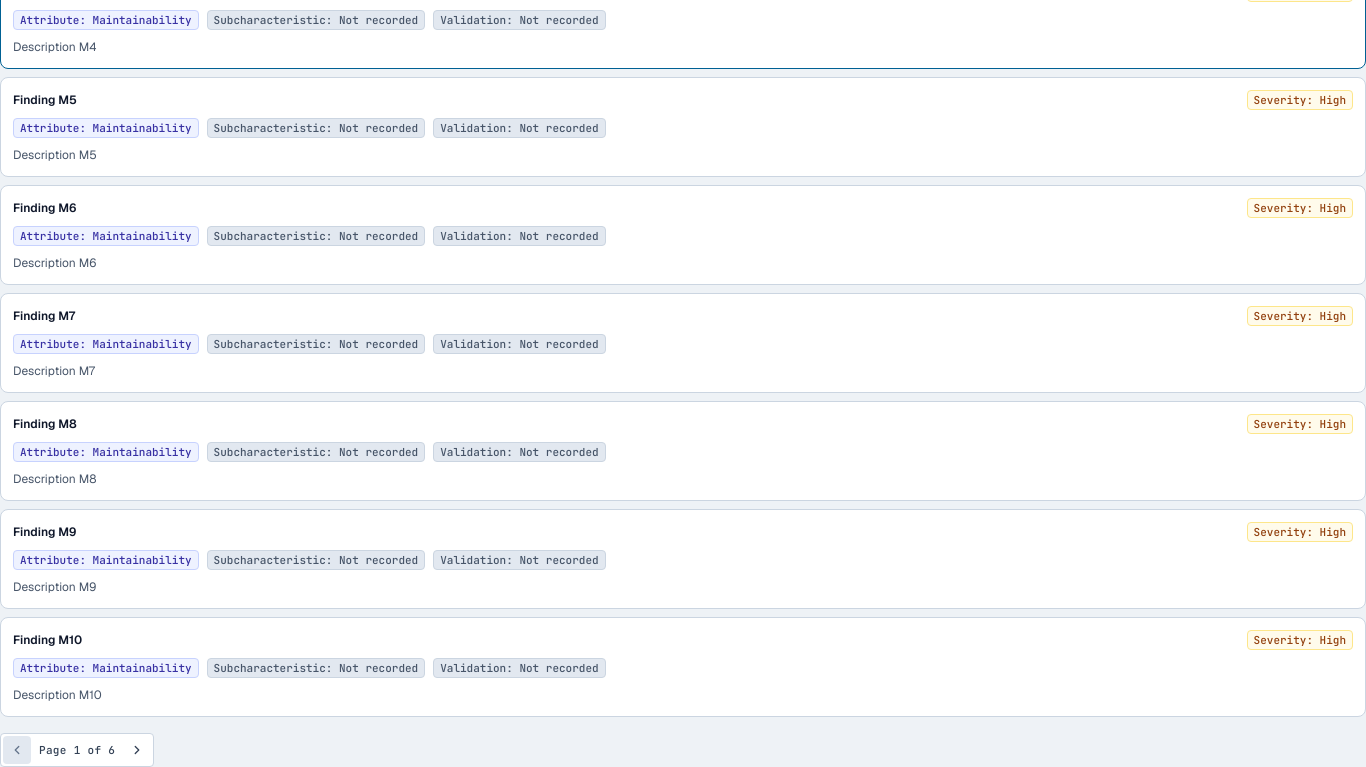
it: audit findings list › allows 10, 20 or 50 findings per page and resets the current page when the size changes
(page scrolled)
Click the button named "Next page": click(137, 750) [123,736,151,764]
(page scrolled)
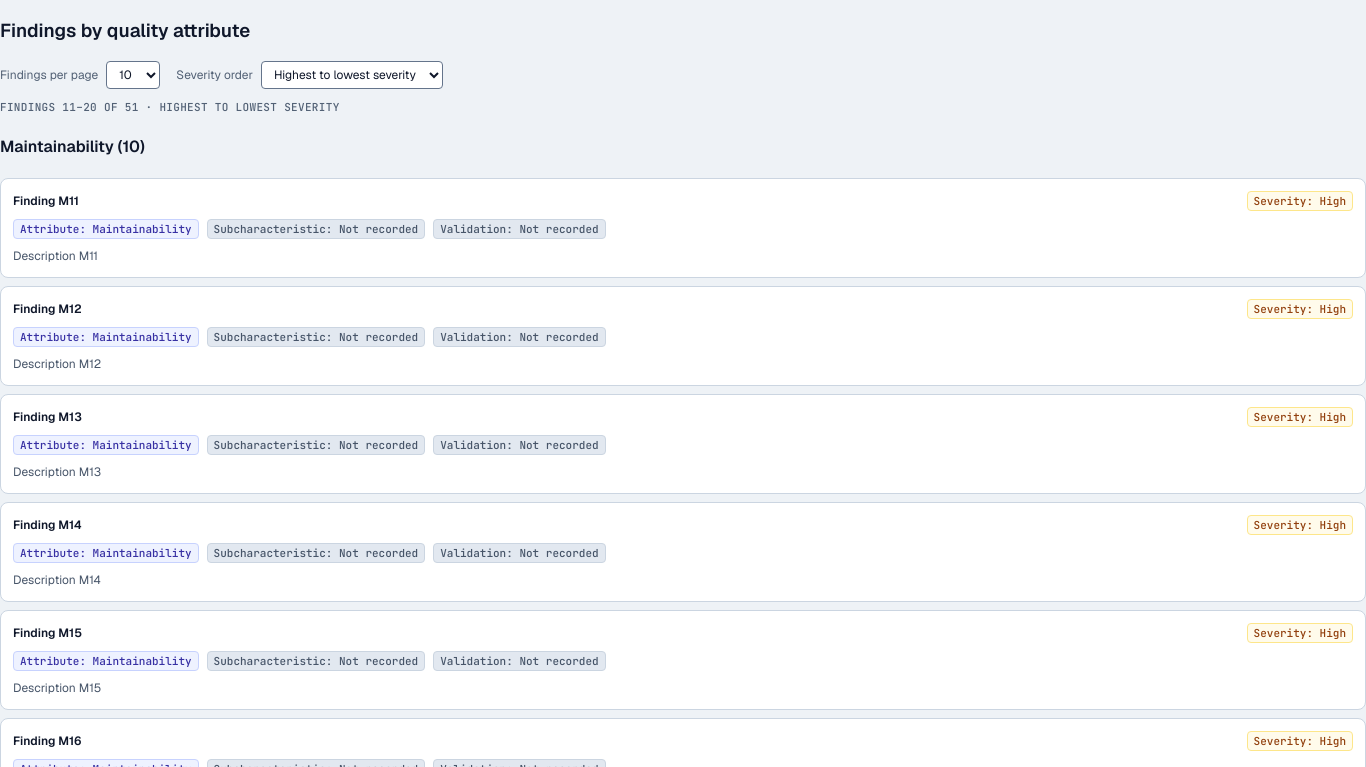
Select "20" in the dropdown labelled "Findings per page": (133, 75) [106,61,160,89]
(page scrolled)
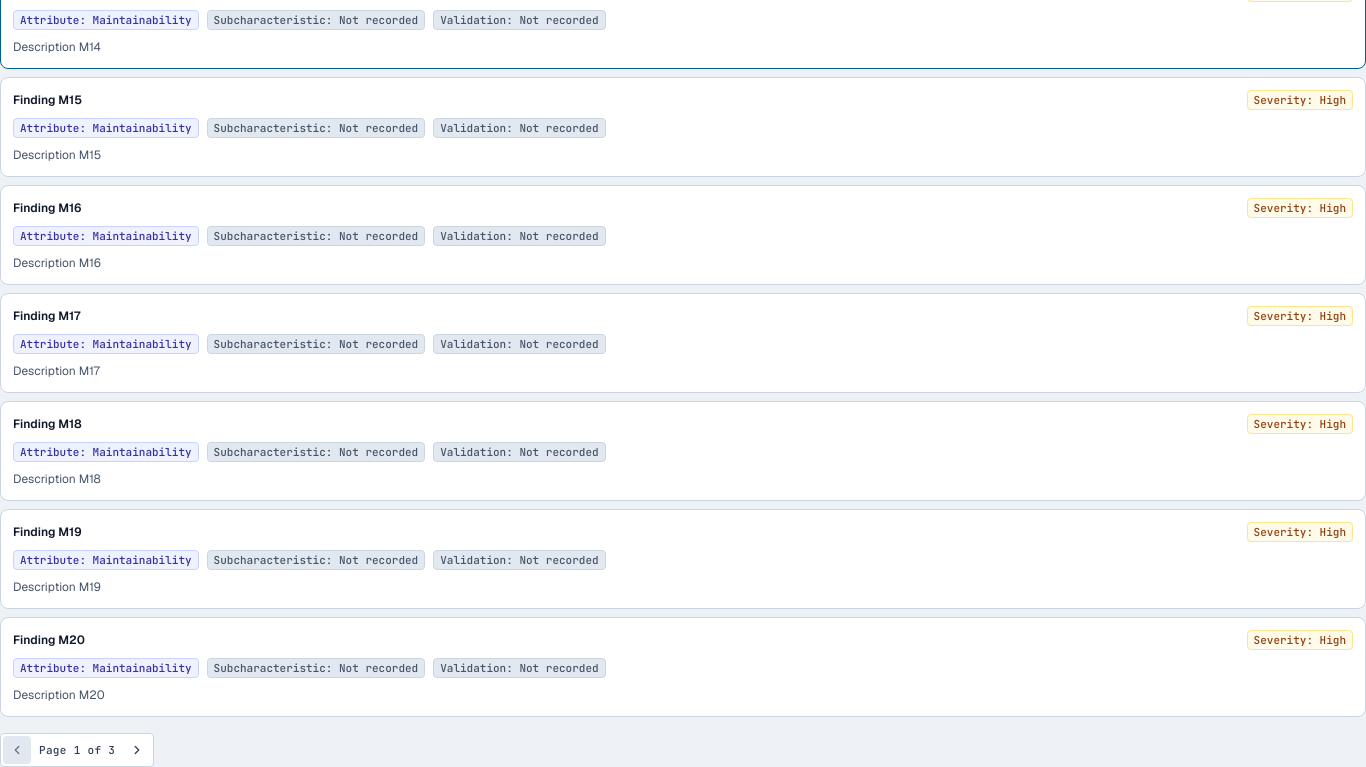
Check: the button named "Previous page" is disabled, box [3,736,31,764]
Click the button named "Next page": click(137, 750) [123,736,151,764]
(page scrolled)
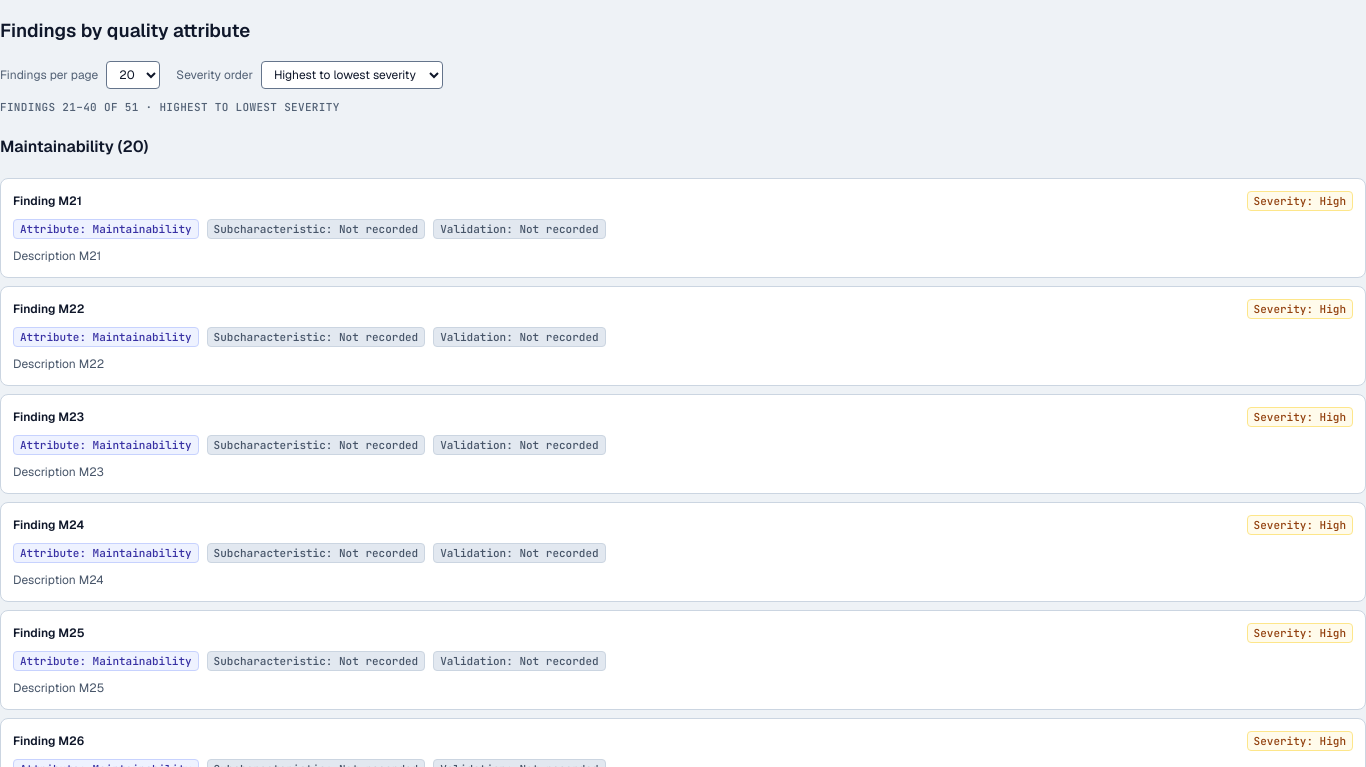
Check: the message shows "Findings 21–40 of 51", box [0,100,340,114]
Select "50" in the dropdown labelled "Findings per page": (133, 75) [106,61,160,89]
(page scrolled)
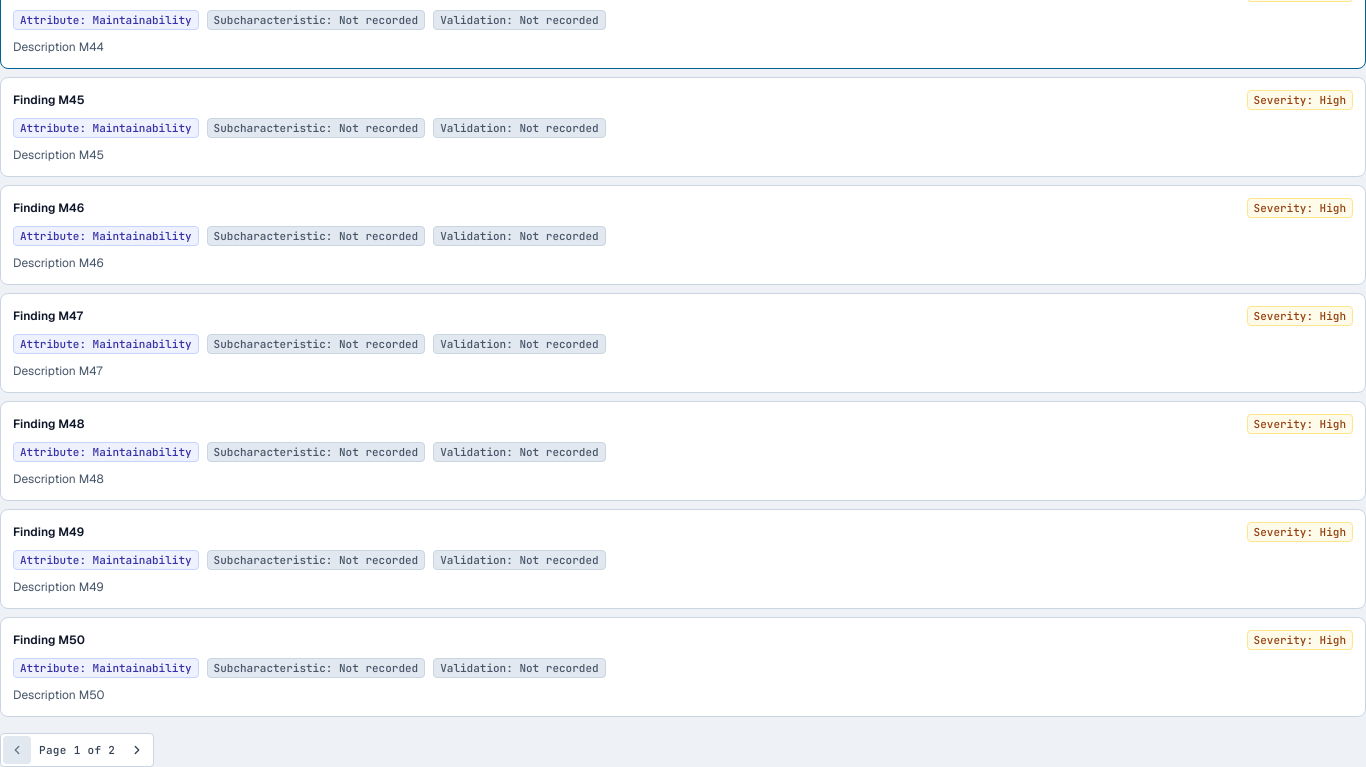
Click the button named "Next page": click(137, 750) [123,736,151,764]
(page scrolled)
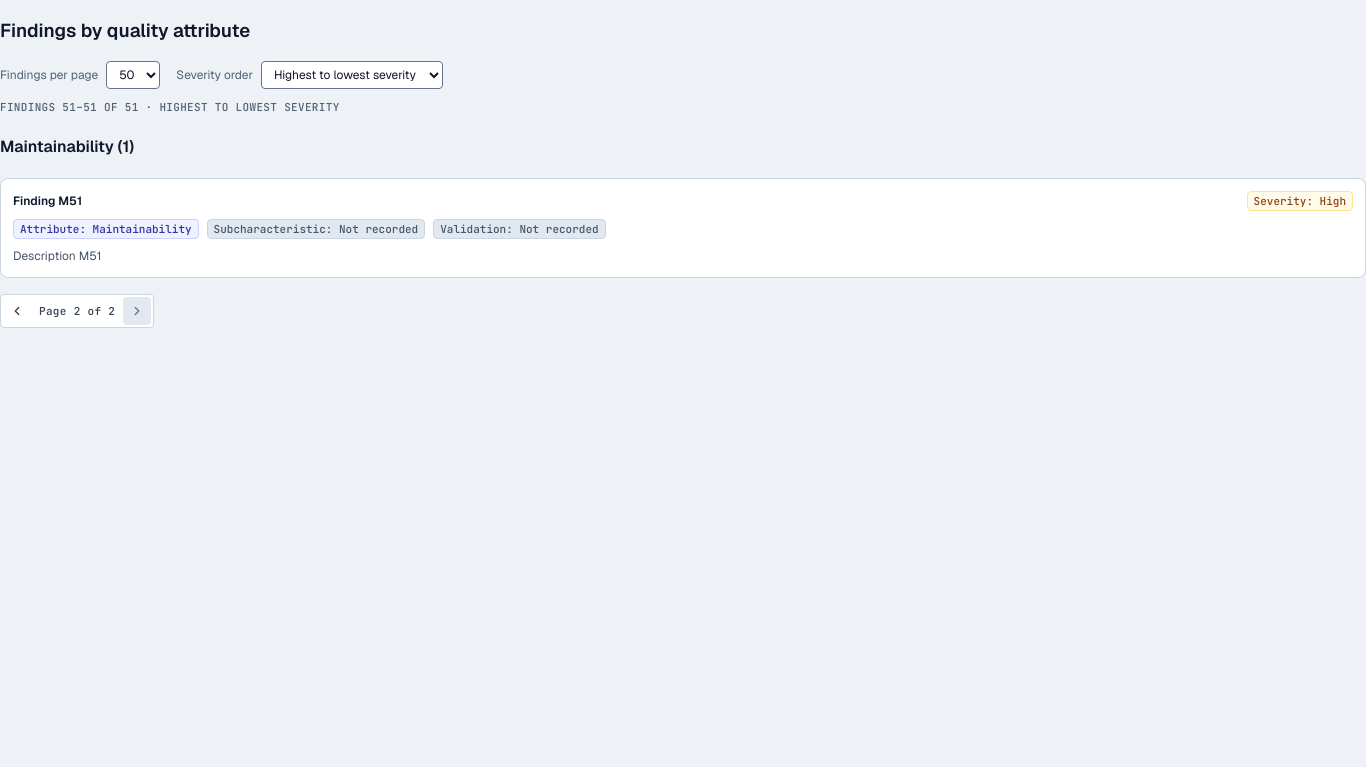
Check: the heading "Finding M51" is shown, box [13,192,82,210]
Select "10" in the dropdown labelled "Findings per page": (133, 75) [106,61,160,89]
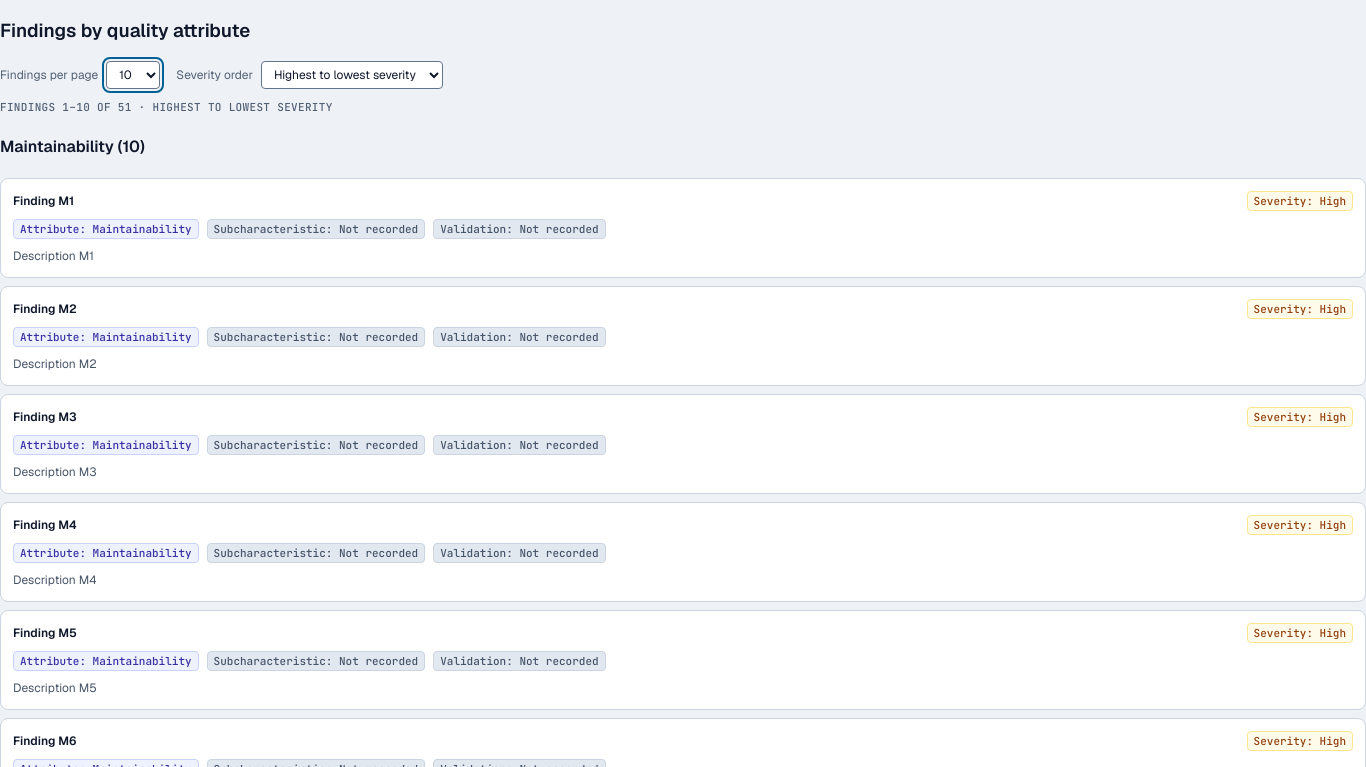
Check: the message shows "Findings 1–10 of 51", box [0,100,333,114]
